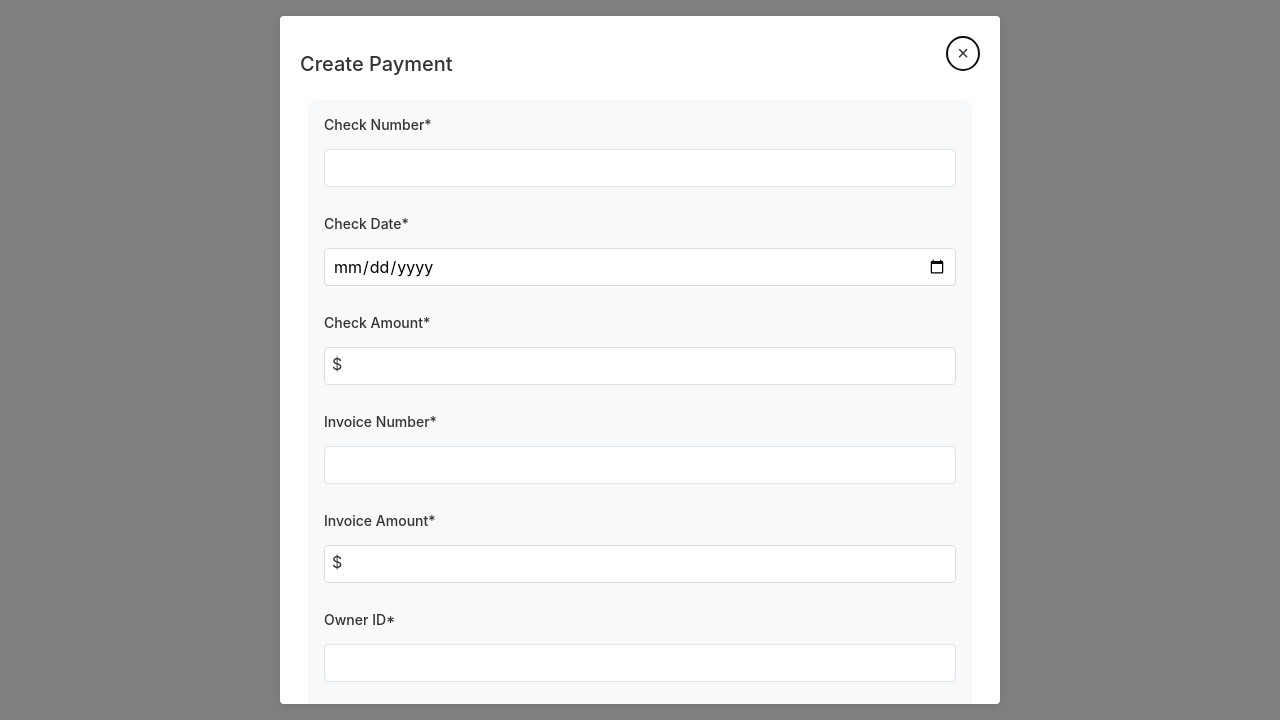
Test: shows an error and does not create when the owner cannot be resolved
Type "synthetic-check" into the field below "Check Number*" at (640, 168), box [324,149,956,187]
Type "2026-08-21" into the date field at (640, 267), box [324,248,956,286]
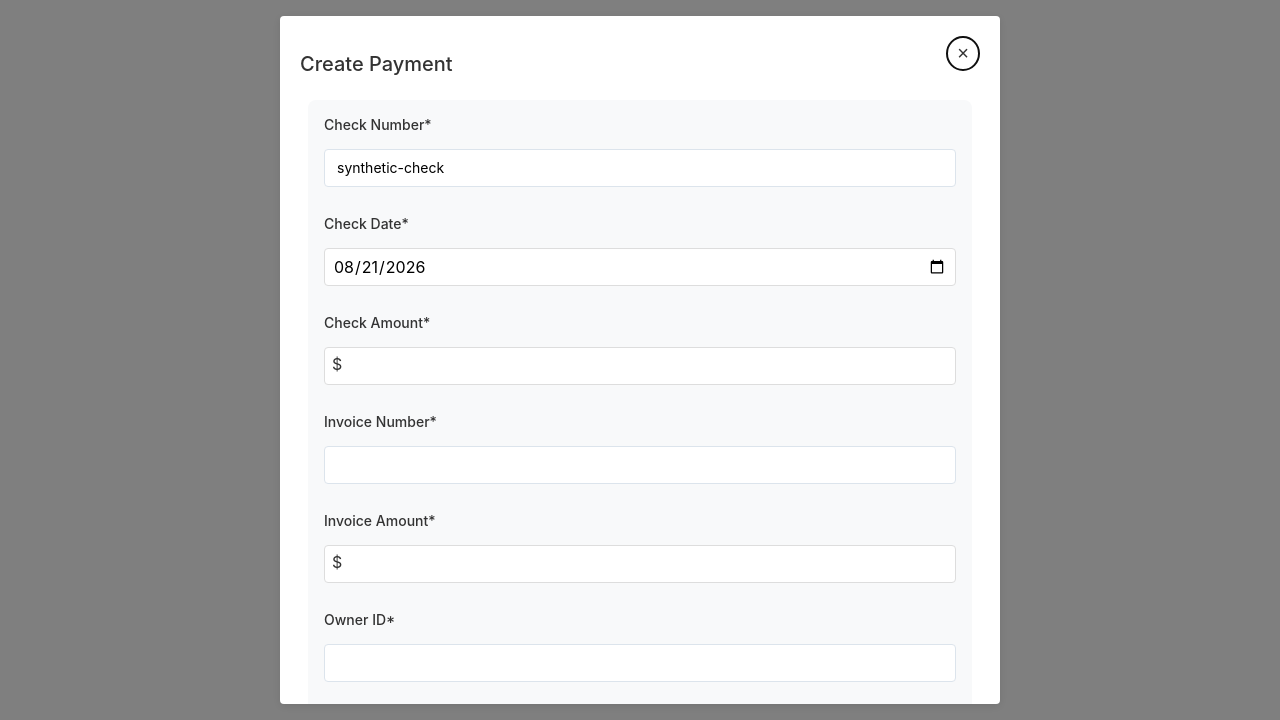
Type "100" into the number field below "Check Amount*" at (640, 366), box [324,347,956,385]
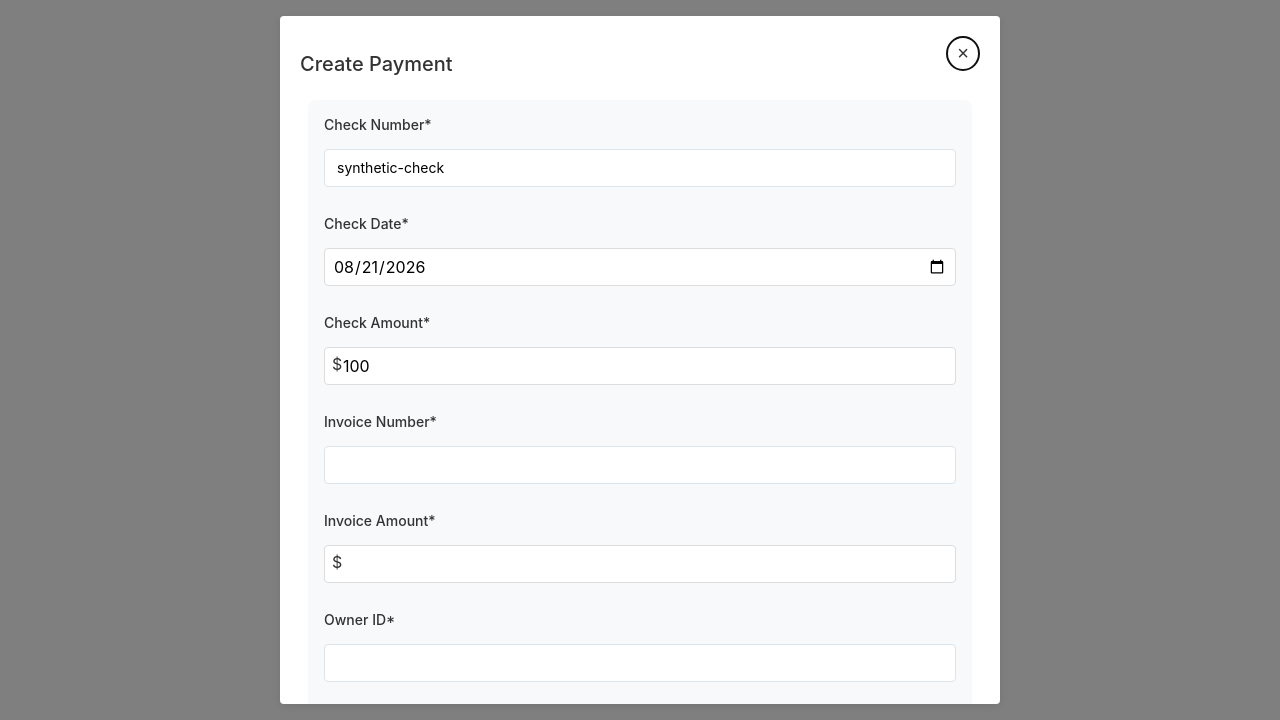
Type "synthetic-invoice" into the field below "Invoice Number*" at (640, 465), box [324,446,956,484]
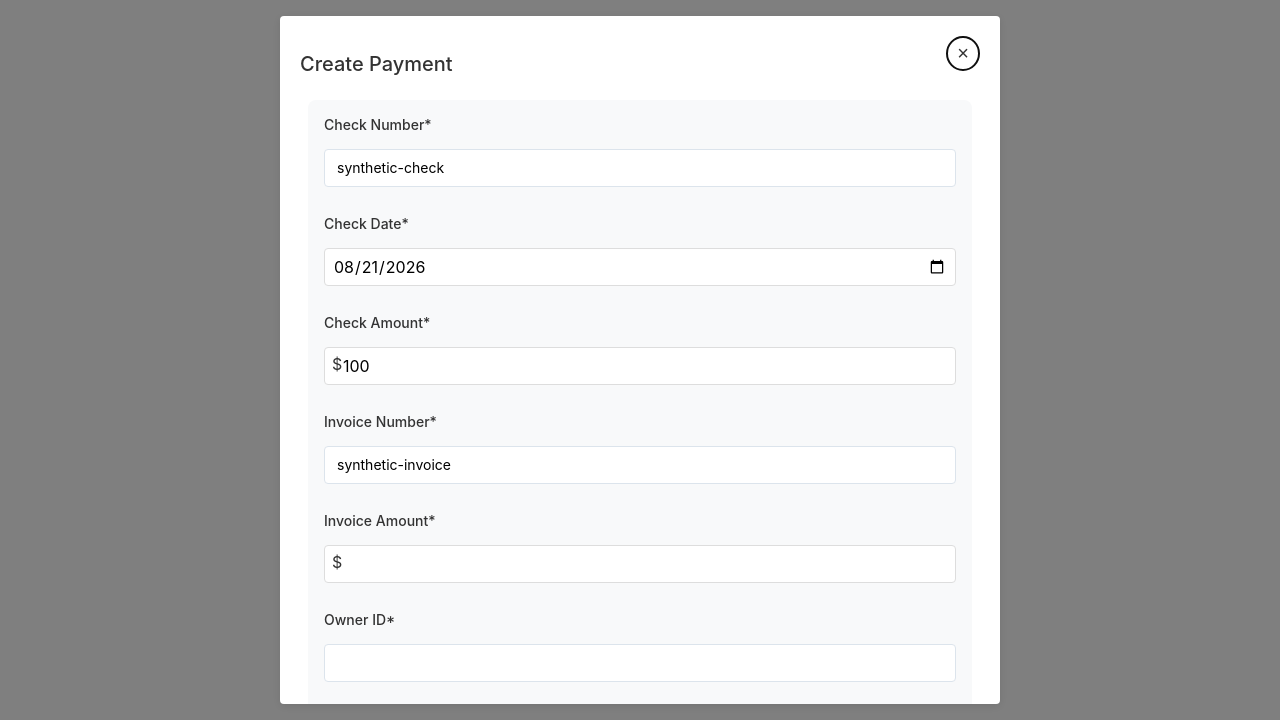
Type "100" into the number field below "Invoice Amount*" at (640, 564), box [324,545,956,583]
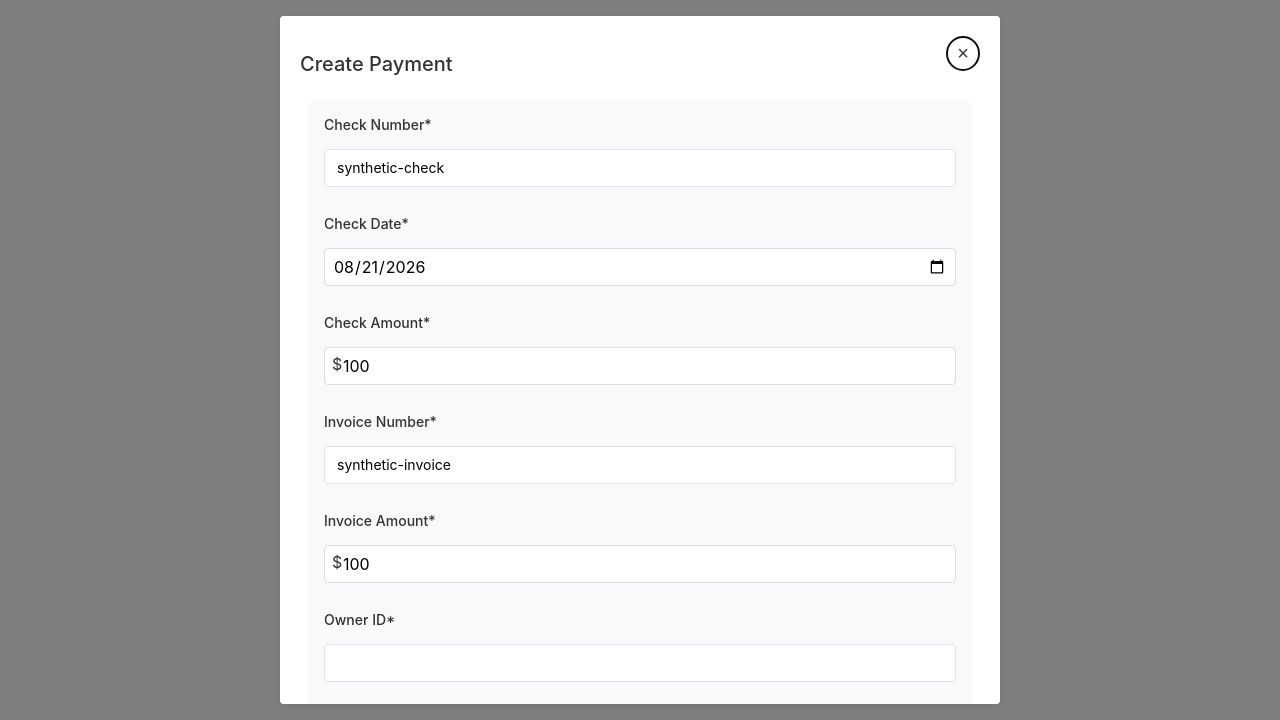
Type "owner-profile-id" into the field below "Owner ID*" at (640, 663), box [324,644,956,682]
(page scrolled)
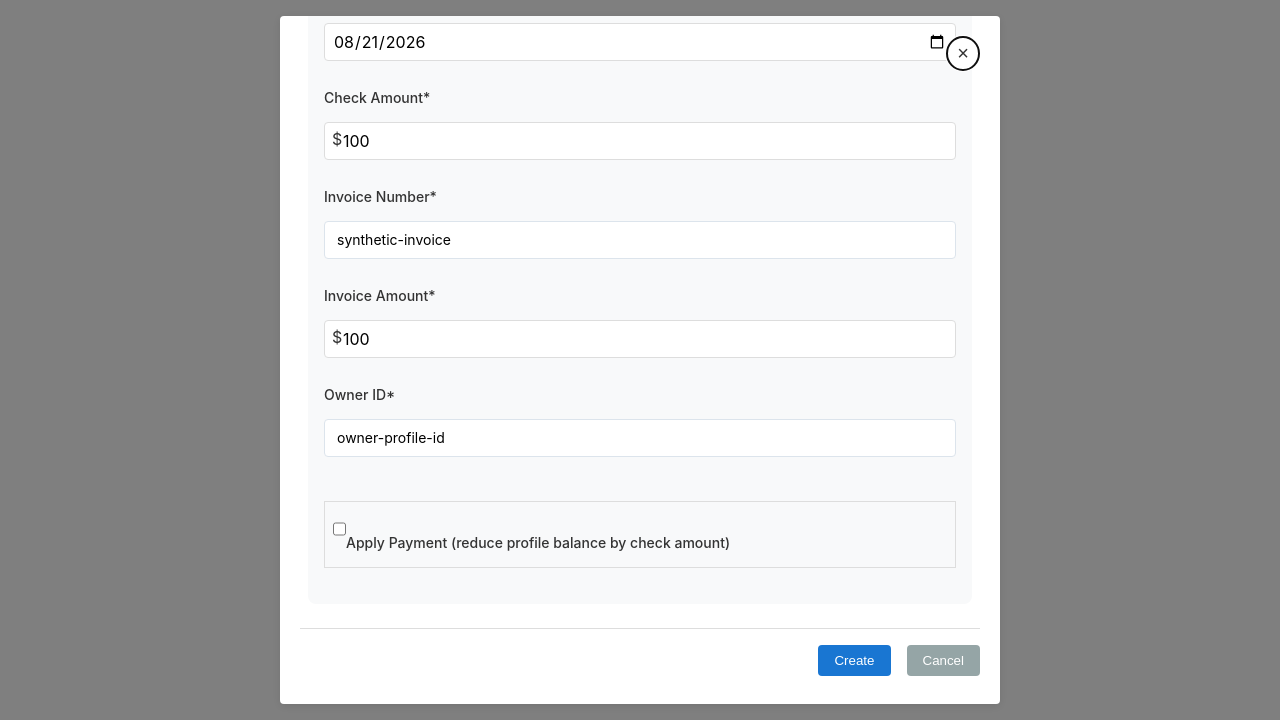
Click the button "Create" at (854, 660), box [818,645,890,676]
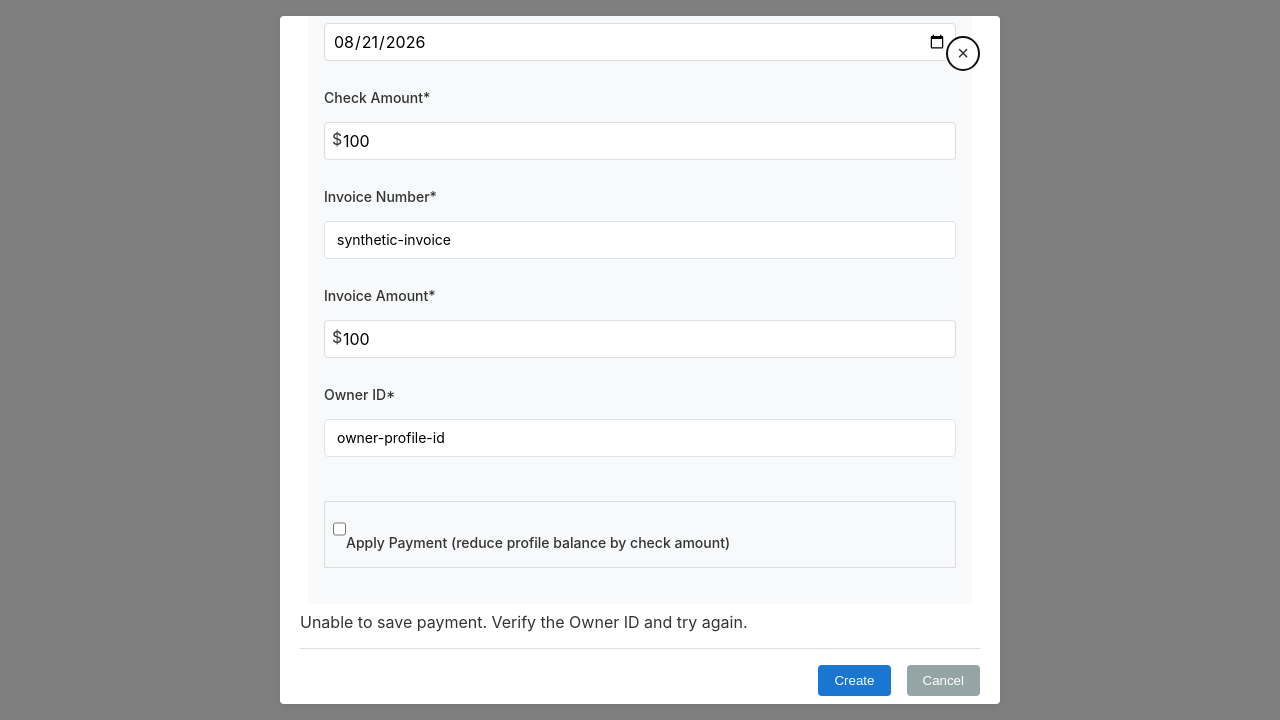
Expected: the button "Create" is enabled, [818,665,890,696]
Expected: the message reads "Unable to save payment. Verify the Owner ID and try again.", [300,612,748,632]
